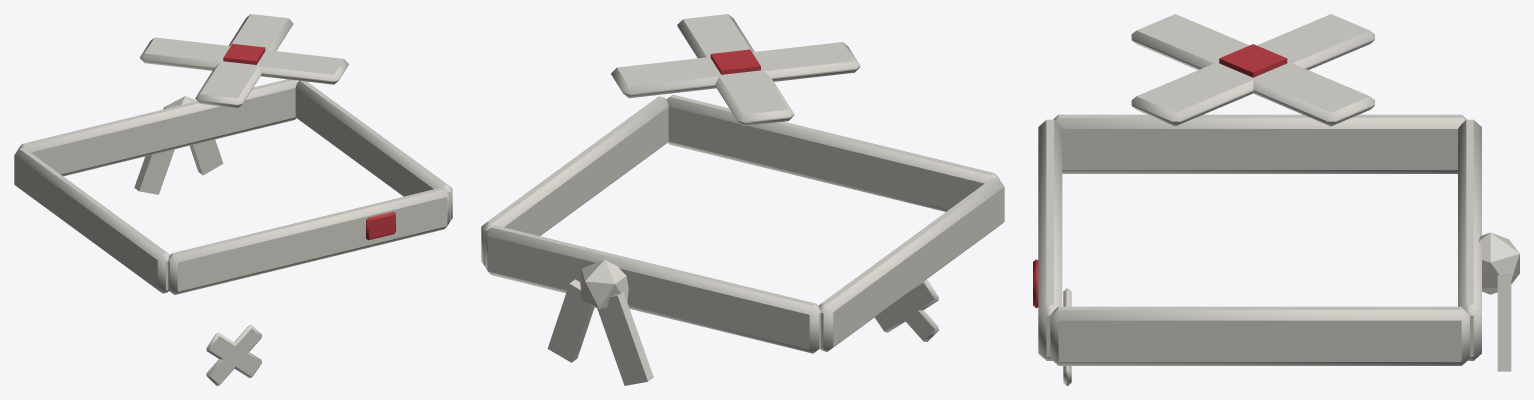
The model's file is c_bandage.glb.
The picture shows the model from 3 angles, left to right: view 1: azimuth 30°, elevation 25°; view 2: azimuth 150°, elevation 25°; view 3: azimuth 270°, elevation 25°; orthographic projection. The views are drawn at different scales.
Parts seen in each view (by area): view 1: body; view 2: body; view 3: body.
Part boxes in pixels (x1=…): body: x1=14, y1=14, x2=452, y2=385; body: x1=481, y1=14, x2=1004, y2=385; body: x1=1033, y1=14, x2=1519, y2=385.
Size of the model in its own units: 0.695 by 0.59 by 0.7075.
